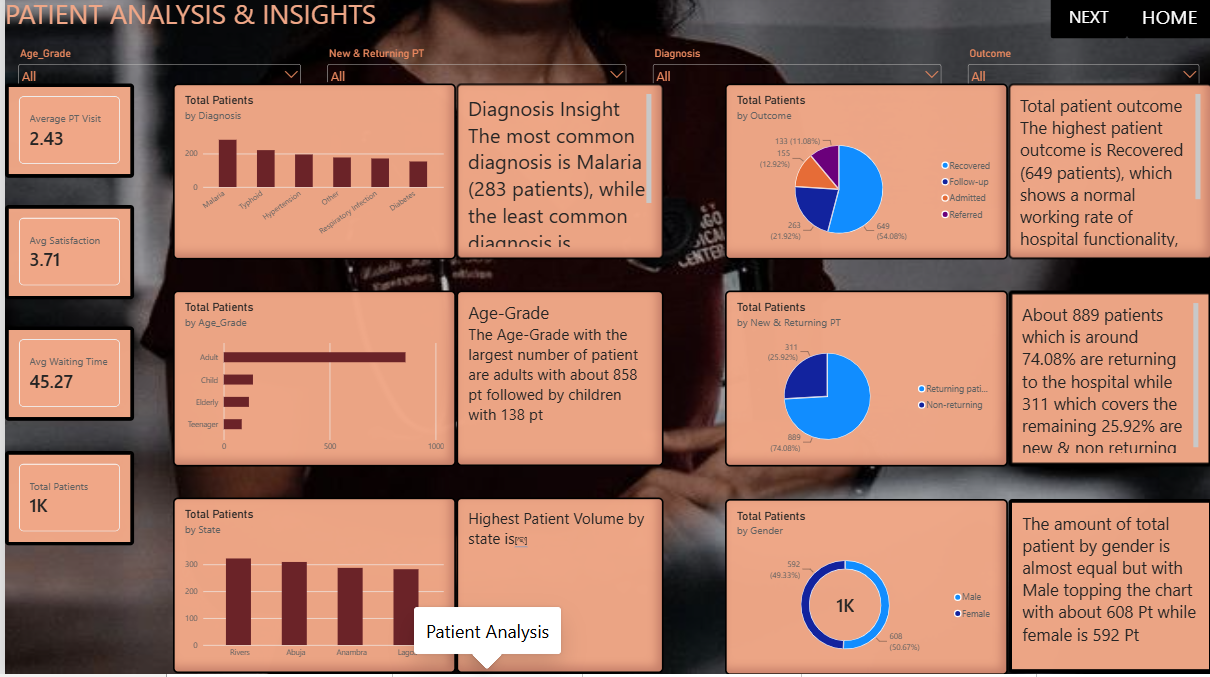

What the dashboard file says about the page in this screenshot:
{"tool":"powerbi","page":{"name":"Patient Analysis","canvas":[1920,1080],"ordinal":1},"visuals":[{"type":"columnChart","fields":{"Category":["Patient_Visits.Diagnosis"],"Y":["Measures_Table.Total Patients"]},"box":[267.2,140.8,450,280],"z":3},{"type":"columnChart","fields":{"Category":["Patient_Visits.State"],"Y":["Measures_Table.Total Patients"]},"box":[267.2,799.3,450,279],"z":4},{"type":"pieChart","fields":{"Category":["Patient_Visits.New & Returning PT"],"Y":["Measures_Table.Total Patients"]},"box":[1145.2,470,450,280],"z":5},{"type":"barChart","fields":{"Category":["Patient_Visits.Age_Grade"],"Y":["Measures_Table.Total Patients"]},"box":[267.2,470,450,280],"z":6},{"type":"textbox","box":[0,0,656.1,97.8],"z":8},{"type":"pieChart","fields":{"Category":["Patient_Visits.Outcome"],"Y":["Measures_Table.Total Patients"]},"box":[1145.2,140.8,450,280],"z":9},{"type":"cardVisual","fields":{"Data":["Measures_Table.Average Waiting Time"]},"box":[0,527.3,205,150],"z":11},{"type":"cardVisual","fields":{"Data":["Measures_Table.Average Satisfaction"]},"box":[0,334,205,150],"z":12},{"type":"donutChart","fields":{"Category":["Patient_Visits.Gender"],"Y":["Measures_Table.Total Patients"]},"box":[1145.2,801.7,450,280],"z":13},{"type":"cardVisual","fields":{"Data":["Measures_Table.Average Visits per Patient"]},"box":[0,140.8,205,150],"z":14},{"type":"cardVisual","fields":{"Data":["Measures_Table.Total Patients"]},"box":[0,725.3,205,150],"z":15},{"type":"textbox","box":[718.2,140.8,329.3,279.2],"z":16},{"type":"textbox","box":[718.2,799.3,329.3,279.2],"z":17},{"type":"textbox","box":[718.2,470,329.3,279.2],"z":18},{"type":"textbox","box":[1596.2,140.8,324.5,279.2],"z":19},{"type":"textbox","box":[1596,469.9,324,280],"z":20},{"type":"textbox","box":[1596.2,801.7,324.5,276.8],"z":21},{"type":"slicer","fields":{"Values":["Patient_Visits.Age_Grade"]},"box":[0,69.2,491.5,71.6],"z":22},{"type":"slicer","fields":{"Values":["Patient_Visits.New & Returning PT"]},"box":[491.5,69.2,517.7,69.2],"z":23},{"type":"slicer","fields":{"Values":["Patient_Visits.Diagnosis"]},"box":[1009.2,69.2,501,71.6],"z":24},{"type":"slicer","fields":{"Values":["Patient_Visits.Outcome"]},"box":[1510.3,69.2,410.4,71.6],"z":25},{"type":"actionButton","box":[1784.7,0,136,69.2],"z":26},{"type":"actionButton","box":[1663,0,121.7,69.2],"z":27}]}

Visuals, with their boxes in screenshot pixels (x1, y1, x2, y2), scaled from the page's 1920x1080 canvas onto the 1210x677 screenshot:
columnChart - Patient_Visits.Diagnosis x Measures_Table.Total Patients: (168,88,452,264)
columnChart - Patient_Visits.State x Measures_Table.Total Patients: (168,501,452,676)
pieChart - Patient_Visits.New & Returning PT x Measures_Table.Total Patients: (722,295,1005,470)
barChart - Patient_Visits.Age_Grade x Measures_Table.Total Patients: (168,295,452,470)
textbox: (0,0,413,61)
pieChart - Patient_Visits.Outcome x Measures_Table.Total Patients: (722,88,1005,264)
cardVisual - Measures_Table.Average Waiting Time: (0,331,129,425)
cardVisual - Measures_Table.Average Satisfaction: (0,209,129,303)
donutChart - Patient_Visits.Gender x Measures_Table.Total Patients: (722,503,1005,676)
cardVisual - Measures_Table.Average Visits per Patient: (0,88,129,182)
cardVisual - Measures_Table.Total Patients: (0,455,129,549)
textbox: (453,88,660,263)
textbox: (453,501,660,676)
textbox: (453,295,660,470)
textbox: (1006,88,1209,263)
textbox: (1006,295,1209,470)
textbox: (1006,503,1209,676)
slicer - Patient_Visits.Age_Grade: (0,43,310,88)
slicer - Patient_Visits.New & Returning PT: (310,43,636,87)
slicer - Patient_Visits.Diagnosis: (636,43,952,88)
slicer - Patient_Visits.Outcome: (952,43,1209,88)
actionButton: (1125,0,1209,43)
actionButton: (1048,0,1125,43)
